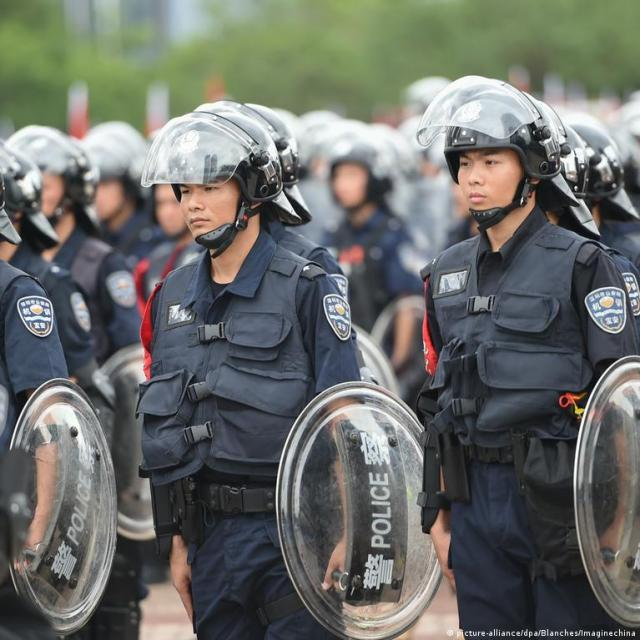police: (100, 77, 421, 640), (376, 59, 636, 632)
